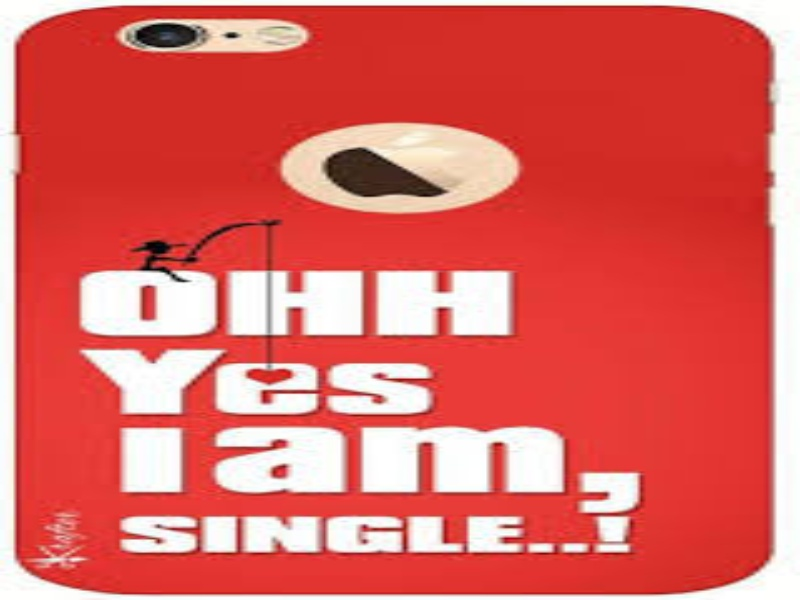mobile: (9, 11, 796, 598)
